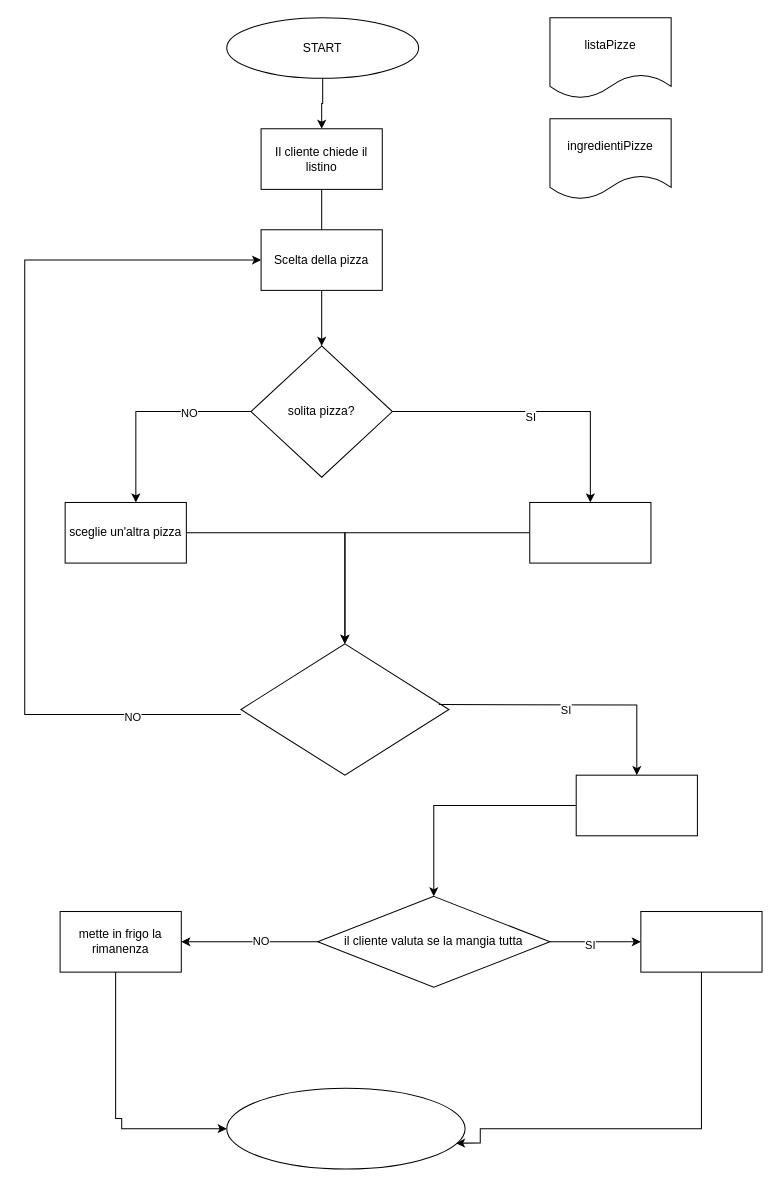
Image size: 780x1187. Some labels were removed from this diagram. Here are the shapes that lost their labels. From the top down, the centre of each, then its label:
the point at 590,532: ordina la pizza Prosciutto e Funghi
the point at 344,709: controllo disponibilità e ingredienti
the point at 636,805: la pizza viene preparata
the point at 701,941: mangia la pizza
the point at 345,1128: END
